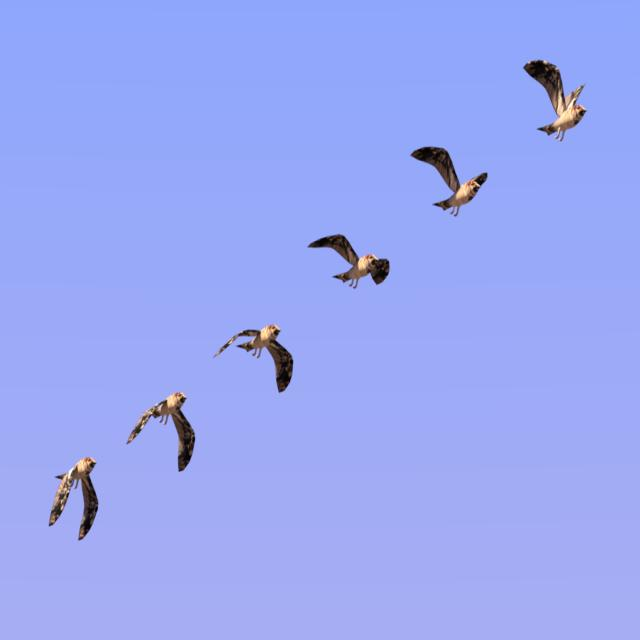bird: (212, 320, 305, 394), (406, 142, 494, 218), (122, 393, 207, 471), (524, 64, 592, 148), (46, 455, 110, 544), (305, 228, 389, 291)
